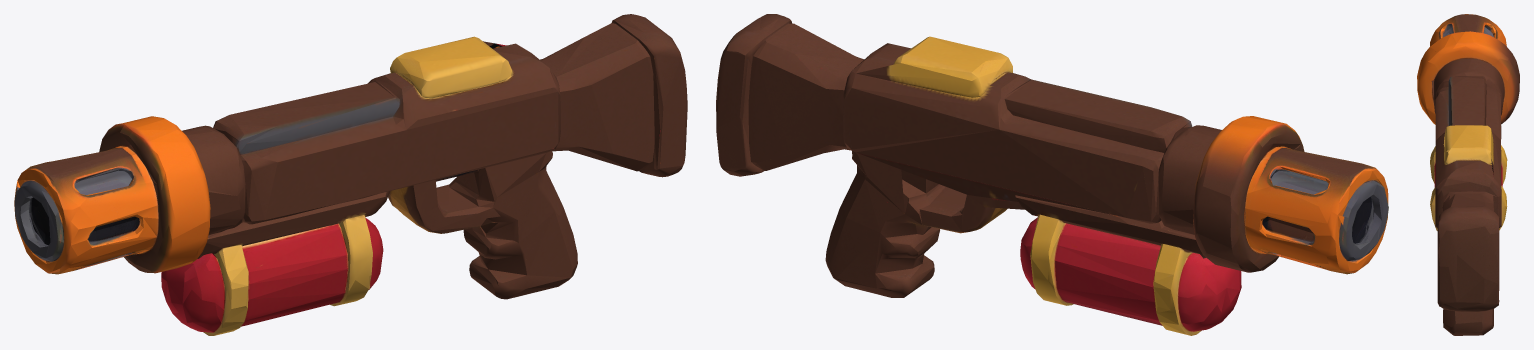
Rendered from fritzi_waffe_reduziert.glb.
3 renders of one model, left to right at view 1: azimuth 30°, elevation 25°; view 2: azimuth 150°, elevation 25°; view 3: azimuth 270°, elevation 25°, orthographic. The views are drawn at different scales.
Parts seen in each view (by area): view 1: output_unwrapped; view 2: output_unwrapped; view 3: output_unwrapped.
Part boxes in pixels (x1=…): output_unwrapped: x1=14, y1=14, x2=687, y2=335; output_unwrapped: x1=716, y1=14, x2=1388, y2=335; output_unwrapped: x1=1417, y1=14, x2=1519, y2=335.
Bounding box in the file's own units: 1.9 × 0.7143 × 0.3954.
Materials: 1 (1 with a texture image).
